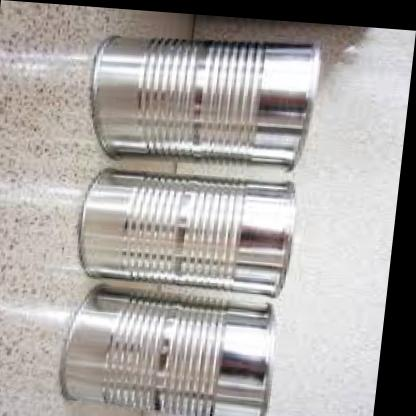Metal: (66, 20, 336, 170), (63, 159, 326, 293), (46, 284, 308, 416)
